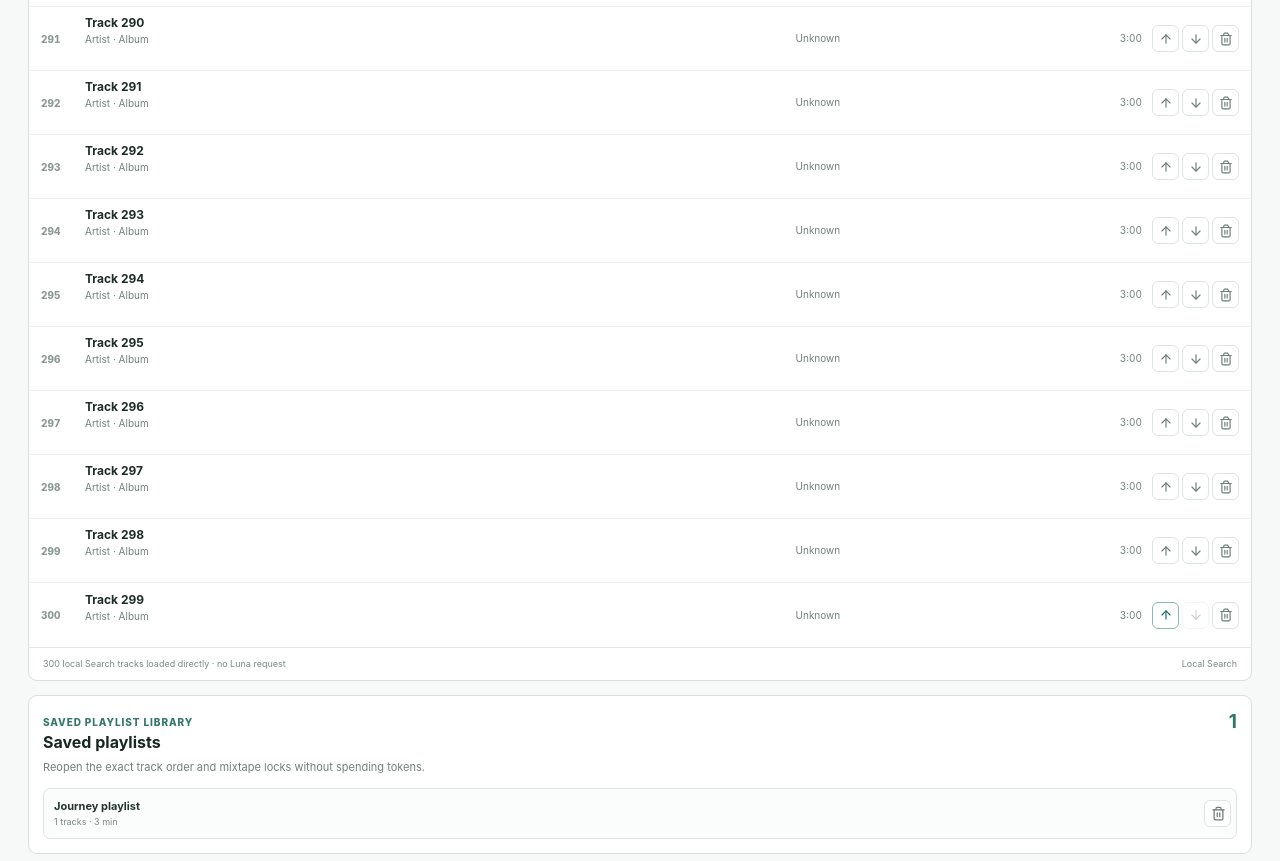
Test case: playlist builder workspace › shows a large draft in full and keeps focus on a reordered track
(page scrolled)
Click the button named "Move Track 299 up" at (1166, 615), box [1152,602,1179,628]
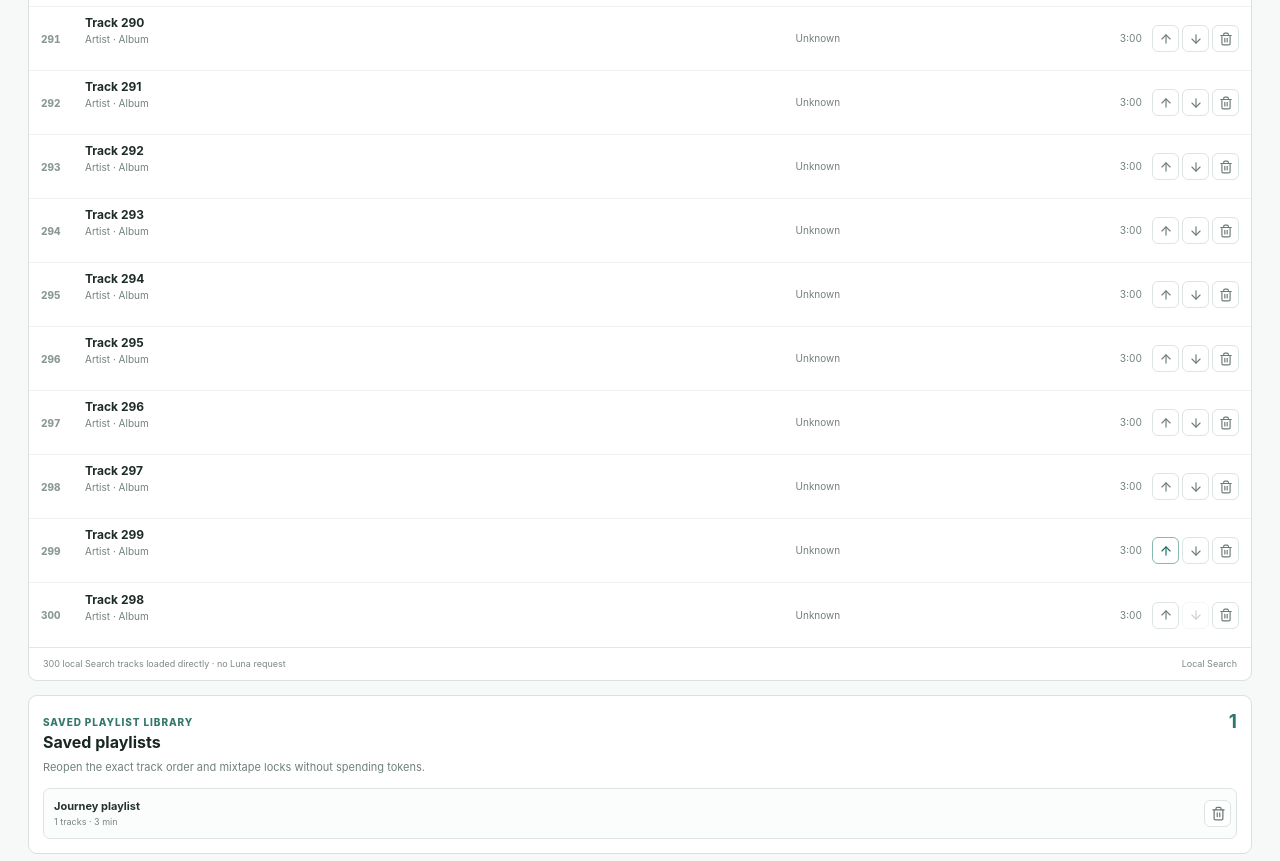
expect the text "299" is shown: met, box [41,544,60,556]
Click the button named "Remove Track 299" at (1226, 550), box [1212,537,1239,564]
(page scrolled)
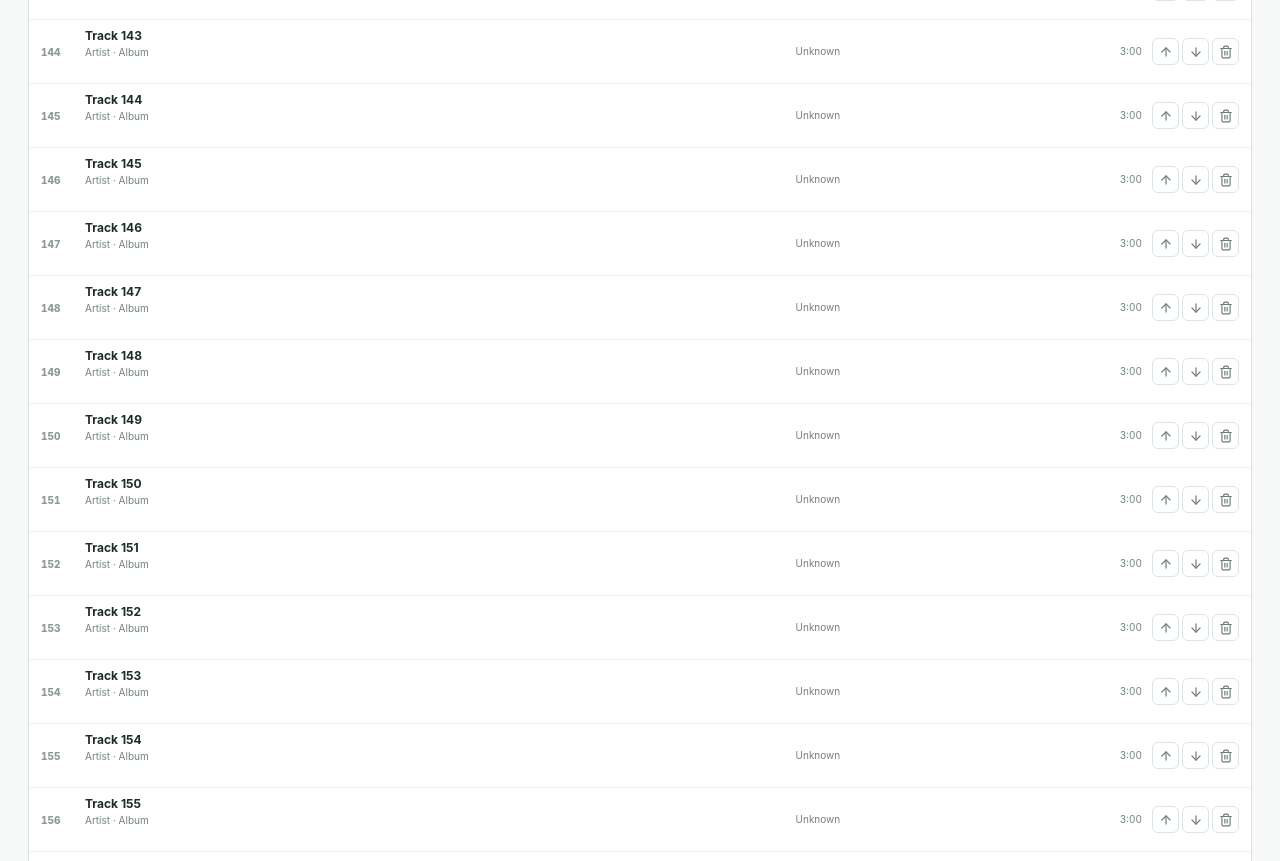
expect the text "Track 299" is gone: met
